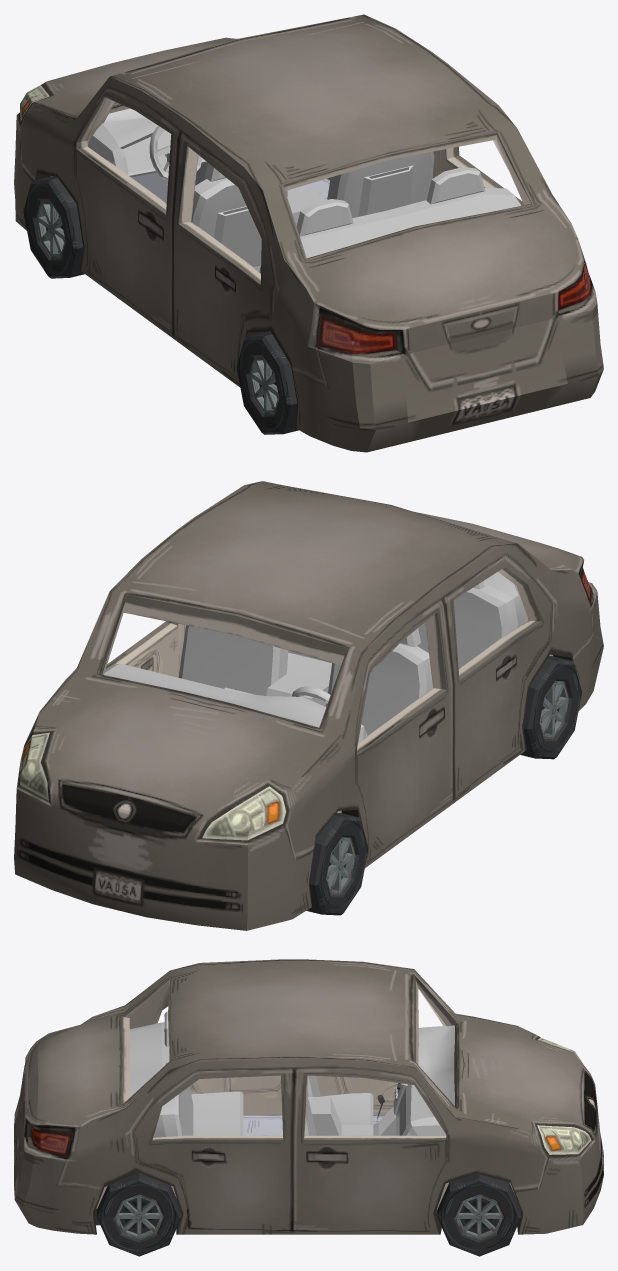
Rendered from Car_2 (1).fbx.
3 renders of one model, top to bottom at view 1: azimuth 30°, elevation 25°; view 2: azimuth 150°, elevation 25°; view 3: azimuth 270°, elevation 25°, orthographic. The views are drawn at different scales.
Visible parts, largest first — view 1: Car; view 2: Car; view 3: Car.
Part boxes in pixels (box(x1,y1,x2,y2)): Car: box(14, 14, 603, 452); Car: box(14, 481, 603, 930); Car: box(14, 959, 603, 1256).
Bounding box in the file's own units: 14.45 × 11.49 × 31.3.
